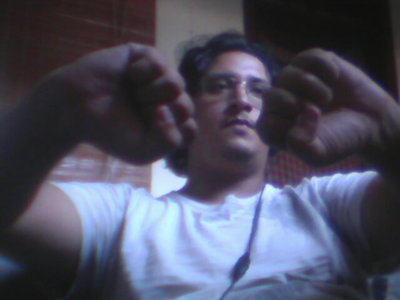closedhandfront: (63, 28, 208, 172), (260, 40, 387, 180)
